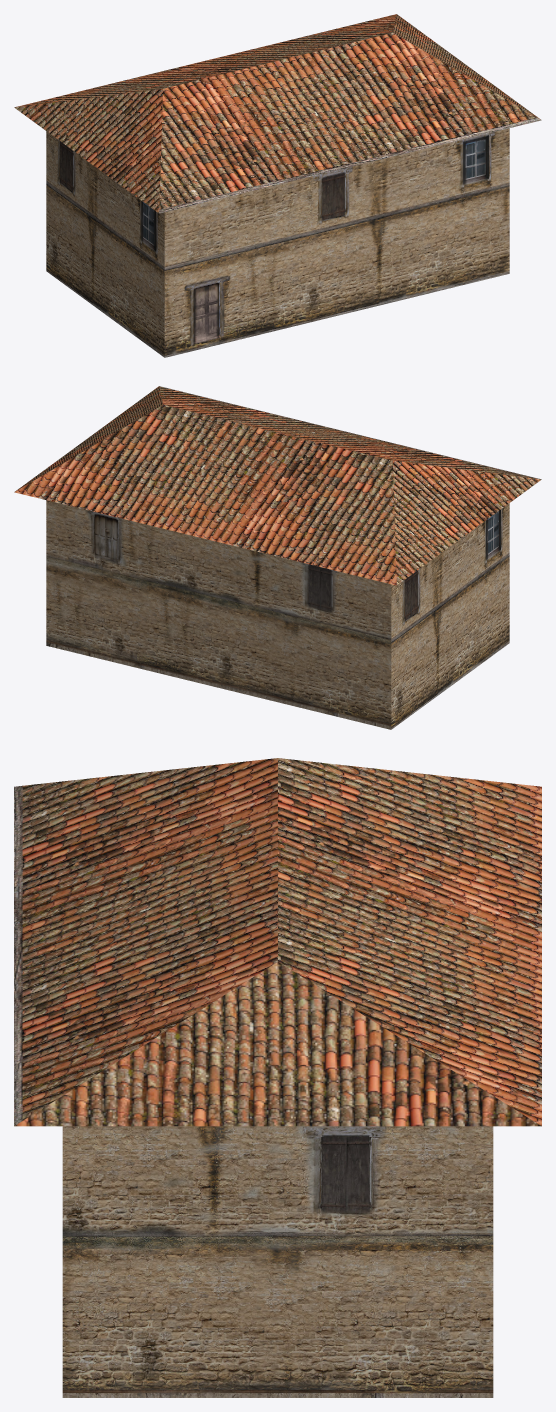
File: simplehouse2.fbx
The picture shows the model from 3 angles, top to bottom: view 1: azimuth 30°, elevation 25°; view 2: azimuth 150°, elevation 25°; view 3: azimuth 270°, elevation 25°; orthographic projection. The views are drawn at different scales.
Parts seen in each view (by area): view 1: Model; view 2: Model; view 3: Model.
Part boxes in pixels (x1=…): Model: x1=14, y1=14, x2=541, y2=357; Model: x1=14, y1=386, x2=541, y2=729; Model: x1=14, y1=758, x2=541, y2=1397.
Bounding box in the file's own units: 8007 × 4233 × 5261.
